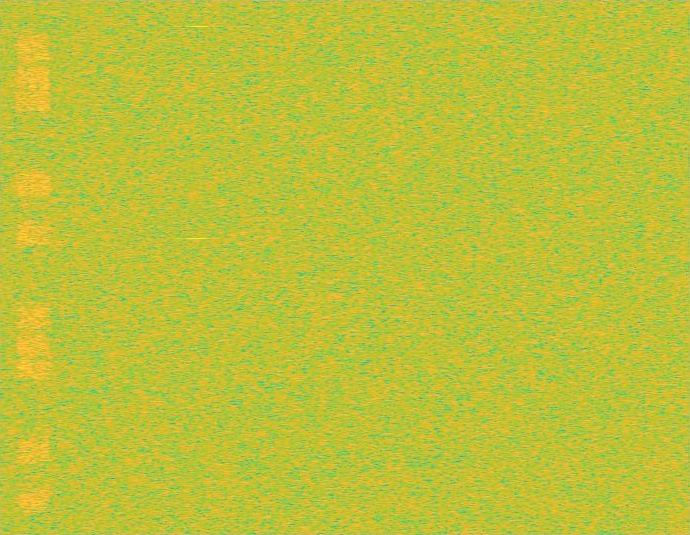LTE: (16, 0, 51, 534)
Radar: (190, 0, 204, 534)
